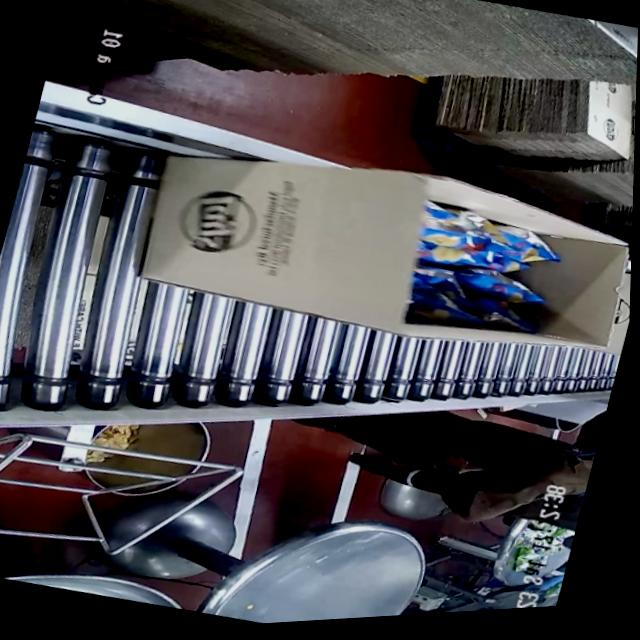PAPRIKA: (402, 194, 626, 367)
